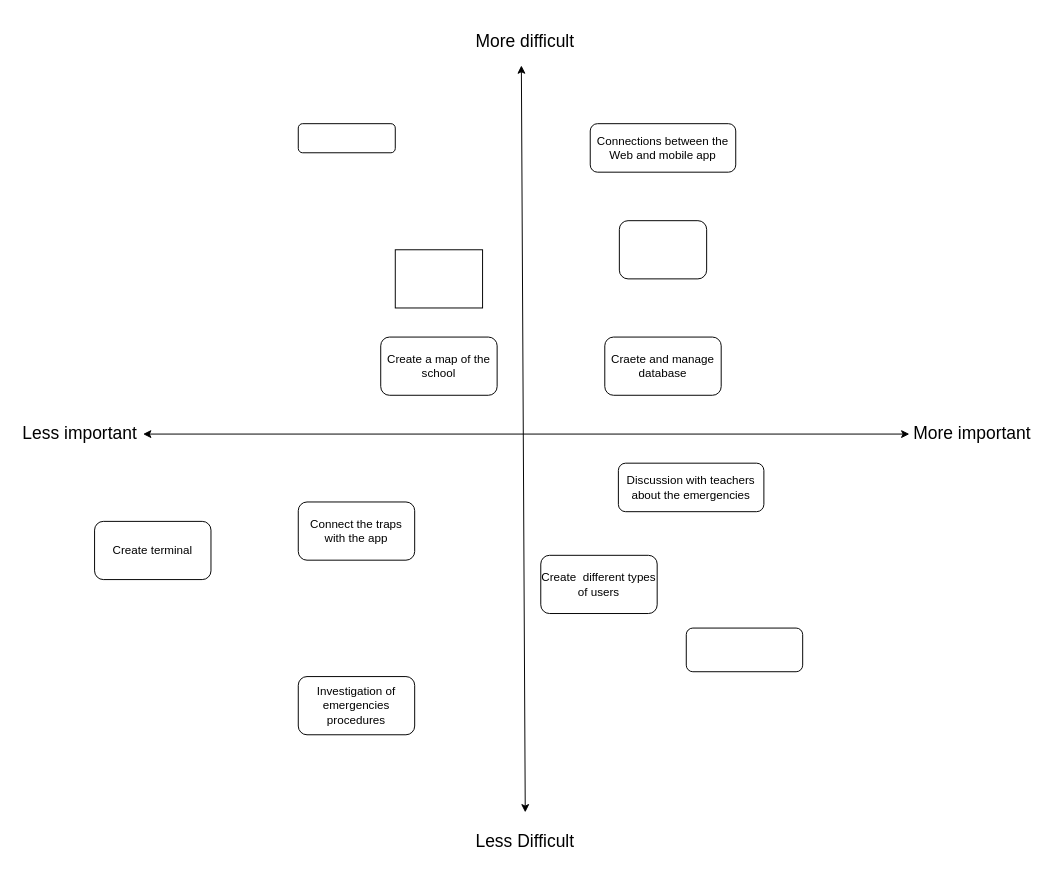
Some shapes in this 1051 by 887 pixel diagram are drawn without their labels. Each missing label, with the centre of its shape:
Creation of the traps: the point at 744,649
Creation of the Web app: the point at 662,249
Development of the mobile app: the point at 438,278
Usage of GitHub: the point at 346,138
